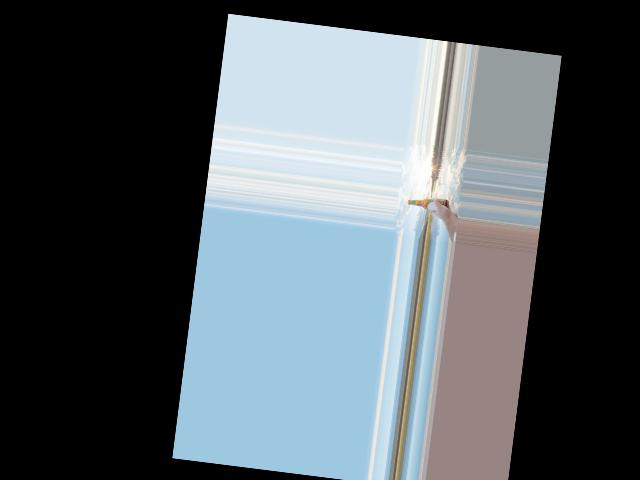beer: (406, 193, 447, 212)
